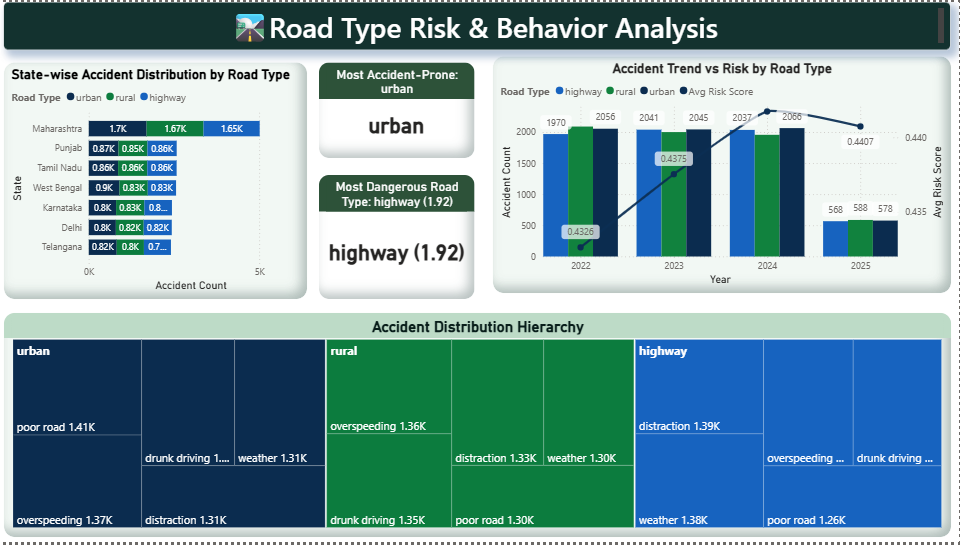

Layout of this report page (visuals, bound fields, positions):
{"tool":"powerbi","page":{"name":"Road Type Deep Dive","canvas":[1280,720],"ordinal":4},"visuals":[{"type":"barChart","title":"State-wise Accident Distribution by Road Type","fields":{"Category":["Accident_Data.State"],"Y":["CountNonNull(Accident_Data.Accident ID)"],"Series":["Accident_Data.Road Type"]},"box":[6.7,80,405,316.7],"z":0},{"type":"treemap","title":"Accident Distribution Hierarchy","fields":{"Group":["Accident_Data.Road Type"],"Values":["CountNonNull(Accident_Data.Accident ID)"],"Details":["Accident_Data.Cause"]},"box":[6,414,1264,300],"z":1000},{"type":"card","fields":{"Values":["Accident_Data.Top Risk Road Type"]},"box":[425,230,208.3,166.7],"z":2000},{"type":"card","fields":{"Values":["Accident_Data.Top Accident Road Type"]},"box":[425,80,208.3,128.3],"z":3000},{"type":"lineClusteredColumnComboChart","title":"Accident Trend vs Risk by Road Type","fields":{"Category":["Accident_Data.Year"],"Y":["Accident_Data.Accident Count"],"Y2":["Accident_Data.Avg Risk Score"],"Series":["Accident_Data.Road Type"]},"box":[658.3,71.7,611.7,316.7],"z":4000},{"type":"textbox","box":[6.2,0,1262.5,64.1],"z":5000}]}

Visuals, with their boxes in screenshot pixels (x1, y1, x2, y2), scaled from the page's 1280x720 canvas onto the 960x545 screenshot:
"State-wise Accident Distribution by Road Type" barChart: bbox=(5, 61, 309, 300)
"Accident Distribution Hierarchy" treemap: bbox=(4, 313, 952, 540)
card - Accident_Data.Top Risk Road Type: bbox=(319, 174, 475, 300)
card - Accident_Data.Top Accident Road Type: bbox=(319, 61, 475, 158)
"Accident Trend vs Risk by Road Type" lineClusteredColumnComboChart: bbox=(494, 54, 952, 294)
textbox: bbox=(5, 0, 952, 49)
